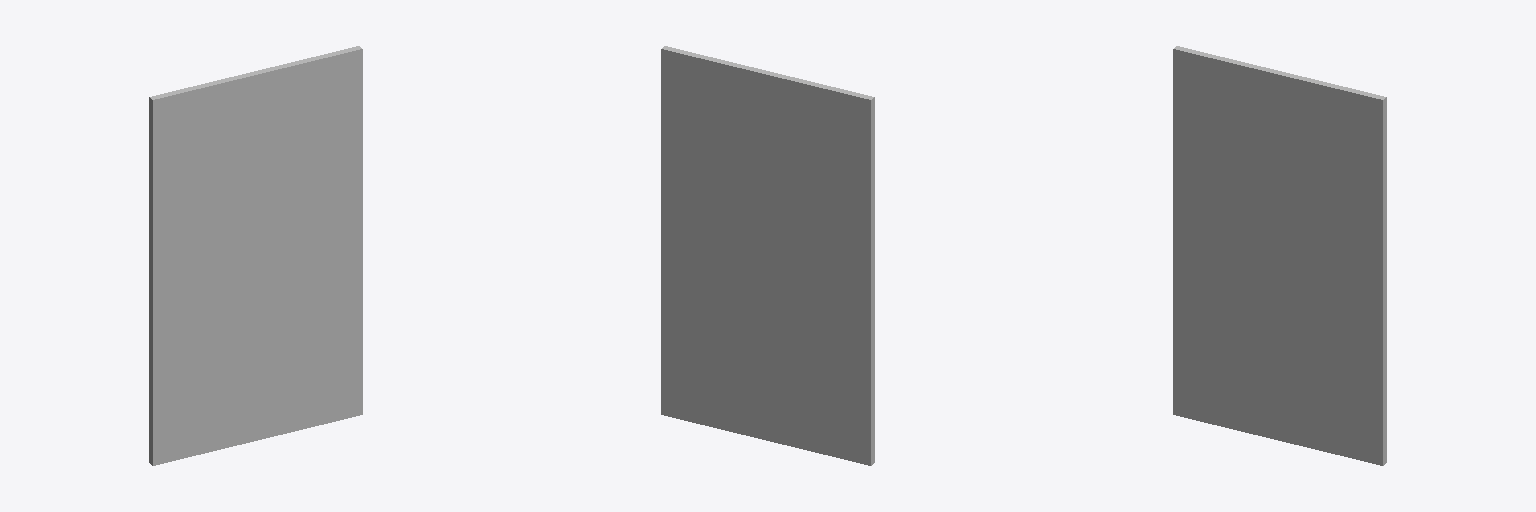
The model's file is wallTall.obj.
3 views of the same model, side by side, from view 1: azimuth 30°, elevation 25°; view 2: azimuth 150°, elevation 25°; view 3: azimuth 330°, elevation 25° (orthographic).
Parts seen in each view (by area): view 1: Plane; view 2: Plane; view 3: Plane.
Boxes of the visible parts, <box> form: Plane: <box>149,46,362,465</box>; Plane: <box>661,46,874,465</box>; Plane: <box>1173,46,1386,465</box>.
Bounding box in the file's own units: 3 × 5 × 0.1.